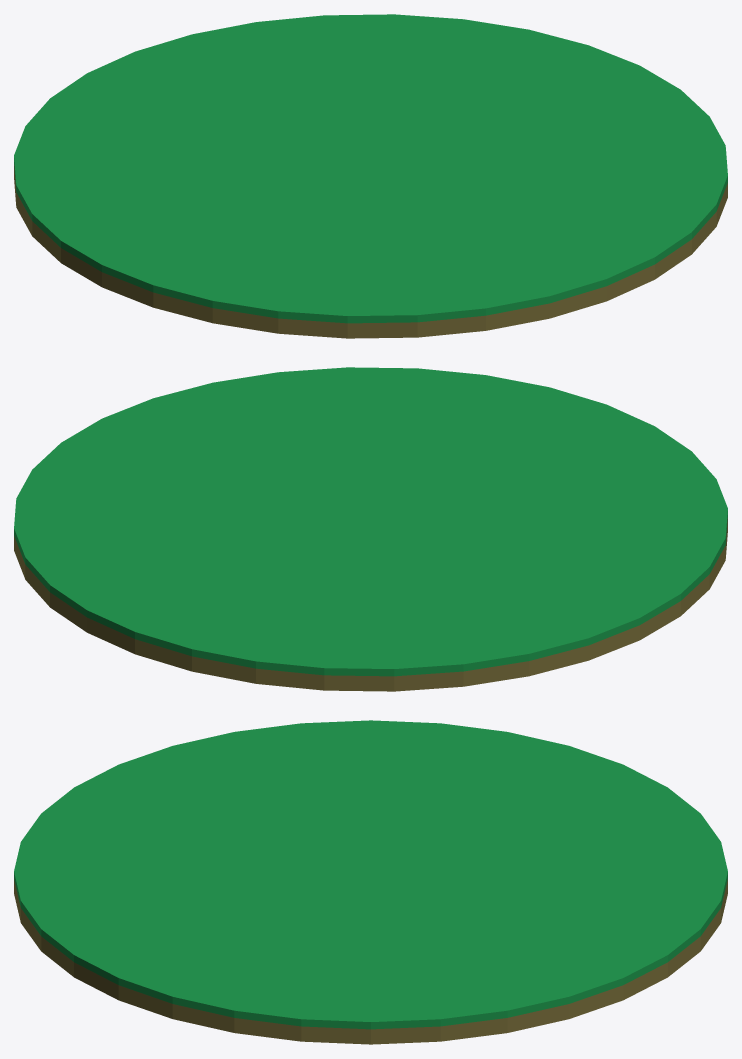
Rendered from base eiland.glb.
3 views of the same model, one above another, from view 1: azimuth 30°, elevation 25°; view 2: azimuth 150°, elevation 25°; view 3: azimuth 270°, elevation 25° (orthographic).
Parts seen in each view (by area): view 1: Cylinder; view 2: Cylinder; view 3: Cylinder.
Part boxes in pixels (x1=…): Cylinder: x1=14, y1=14, x2=727, y2=338; Cylinder: x1=14, y1=367, x2=727, y2=691; Cylinder: x1=14, y1=720, x2=727, y2=1044.
Size of the model in its own units: 196 by 6.79 by 196.
